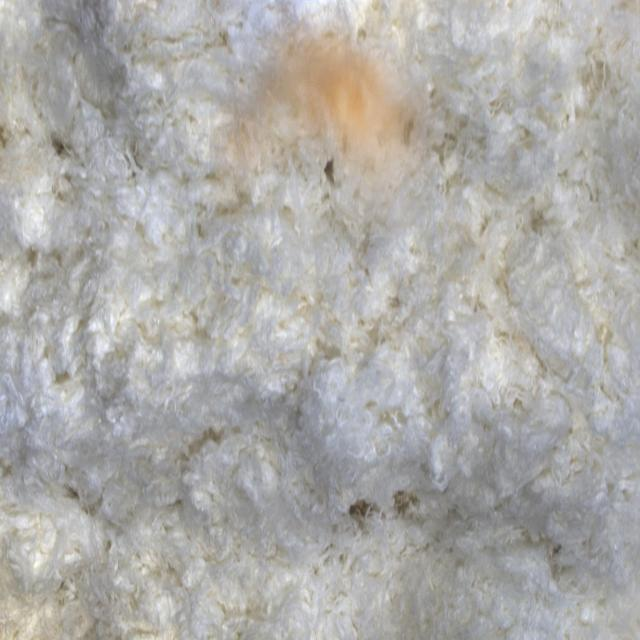dust: (210, 2, 454, 237)
